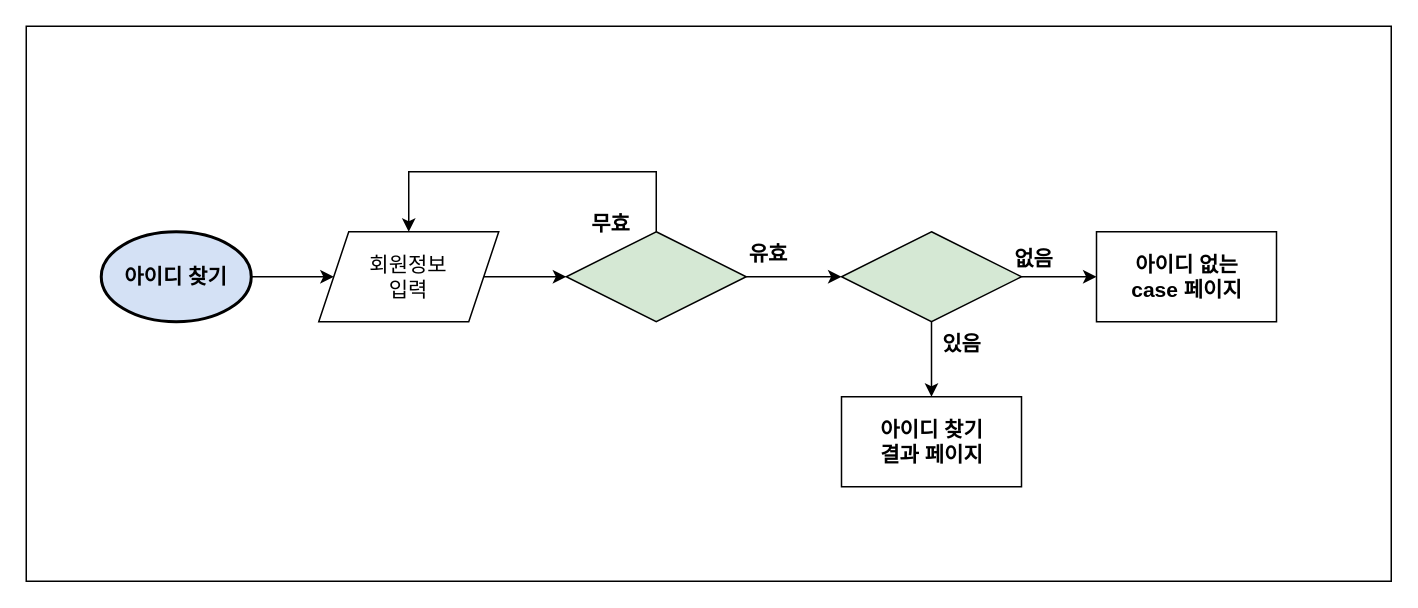
Some shapes in this 1418 by 608 pixel diagram are drawn without their labels. The box of each missing label's shape, as (x1, y1, x2, y2) in pixels:
아이디 유무여부: (840, 230, 1022, 322)
유효성 체크: (565, 230, 746, 322)
